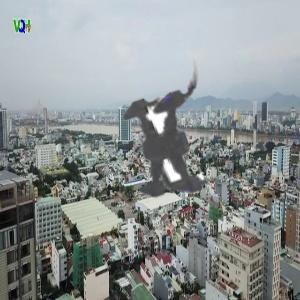drone: (35, 23, 295, 283)
